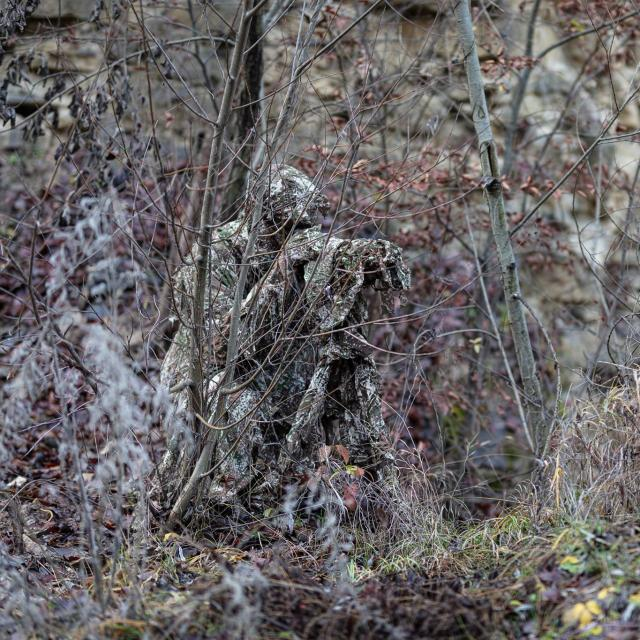Camouflage: (157, 162, 410, 532)
